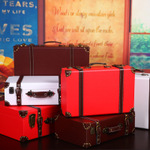shoutibox: (61, 63, 136, 120), (6, 74, 59, 106)
